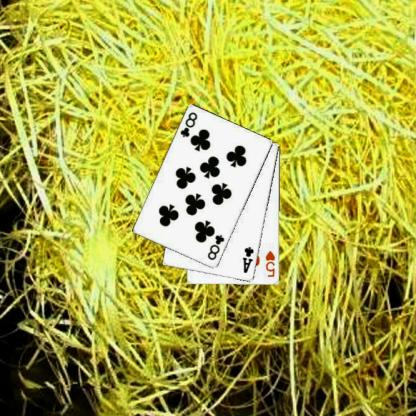5H: (263, 249, 276, 278)
8C: (205, 232, 225, 262), (178, 109, 198, 139)
AC: (240, 244, 255, 274)
